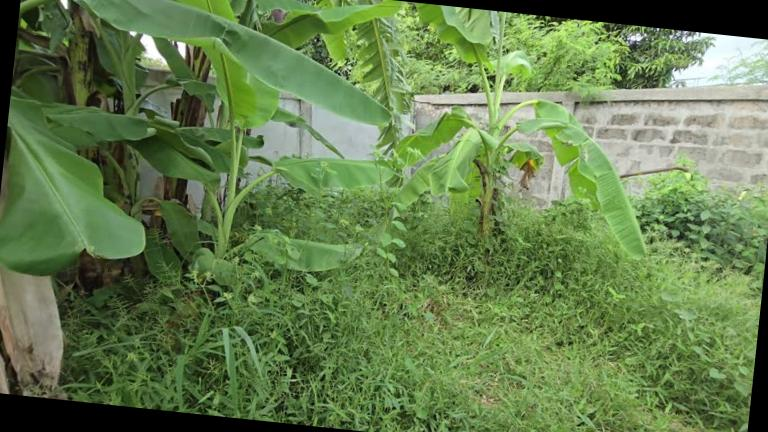overgrown grass: (215, 210, 760, 432), (87, 282, 266, 410), (658, 174, 768, 278), (318, 188, 399, 234)
